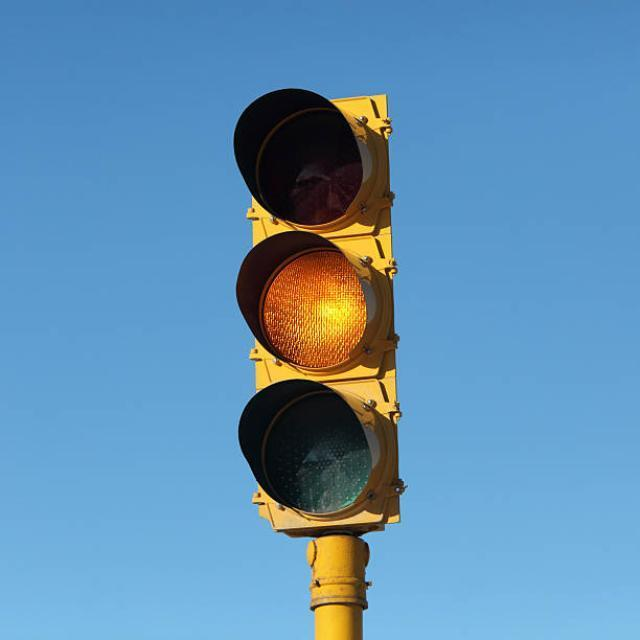yellow_light: (233, 89, 404, 535)
